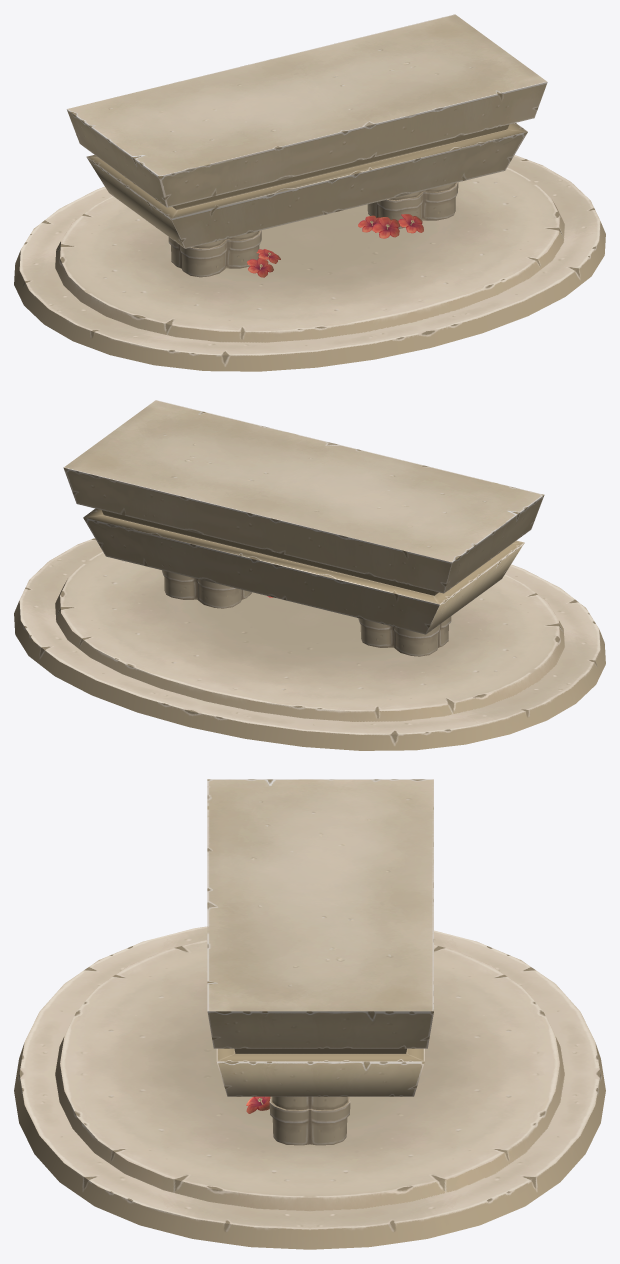
Rendered from Altar.FBX.
The picture shows the model from 3 angles, top to bottom: view 1: azimuth 30°, elevation 25°; view 2: azimuth 150°, elevation 25°; view 3: azimuth 270°, elevation 25°; orthographic projection. The views are drawn at different scales.
Parts seen in each view (by area): view 1: Object057; view 2: Object057; view 3: Object057.
Boxes of the visible parts, bbox=[...] form: Object057: bbox=[14, 14, 605, 371]; Object057: bbox=[14, 400, 605, 750]; Object057: bbox=[14, 779, 605, 1249].
Size of the model in its own units: 312 by 89.71 by 245.
Materials: 1 (1 with a texture image).
